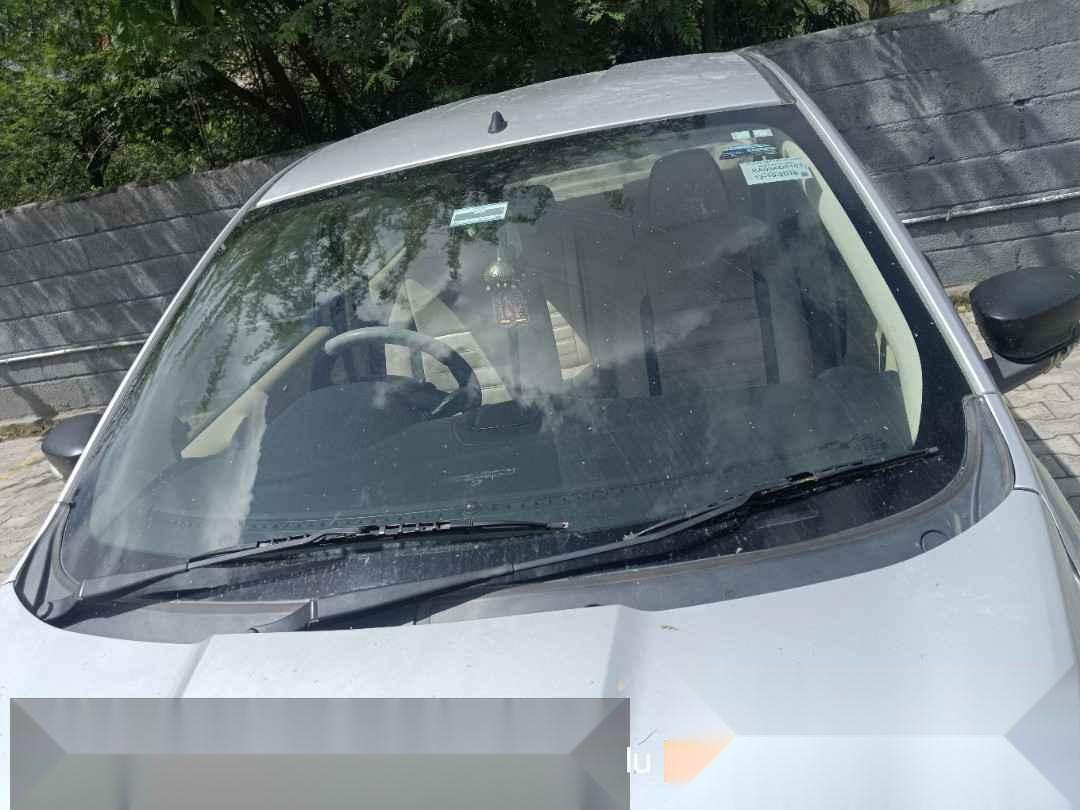FastTag: (437, 193, 531, 237)
not a FastTag: (711, 143, 817, 186), (723, 121, 782, 146)
